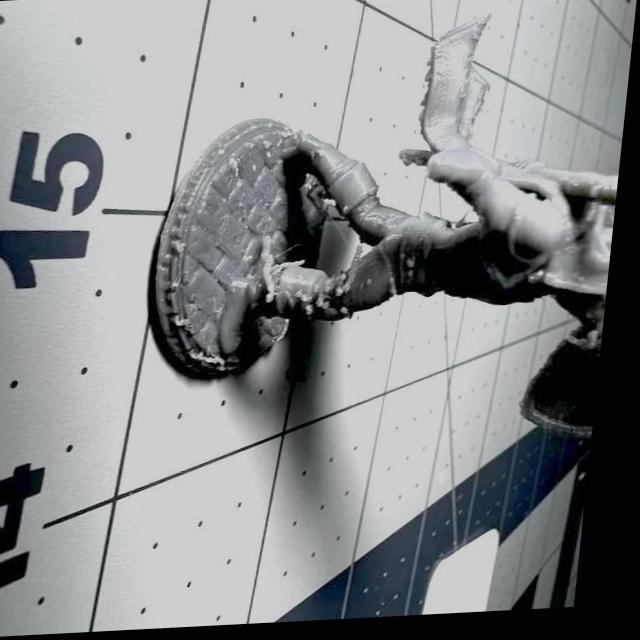zits: (409, 257, 428, 276), (342, 306, 360, 326), (320, 296, 337, 313), (342, 272, 356, 287), (304, 292, 318, 306), (340, 288, 352, 302), (270, 294, 283, 306), (344, 206, 356, 218), (309, 308, 322, 319), (372, 279, 383, 290)
